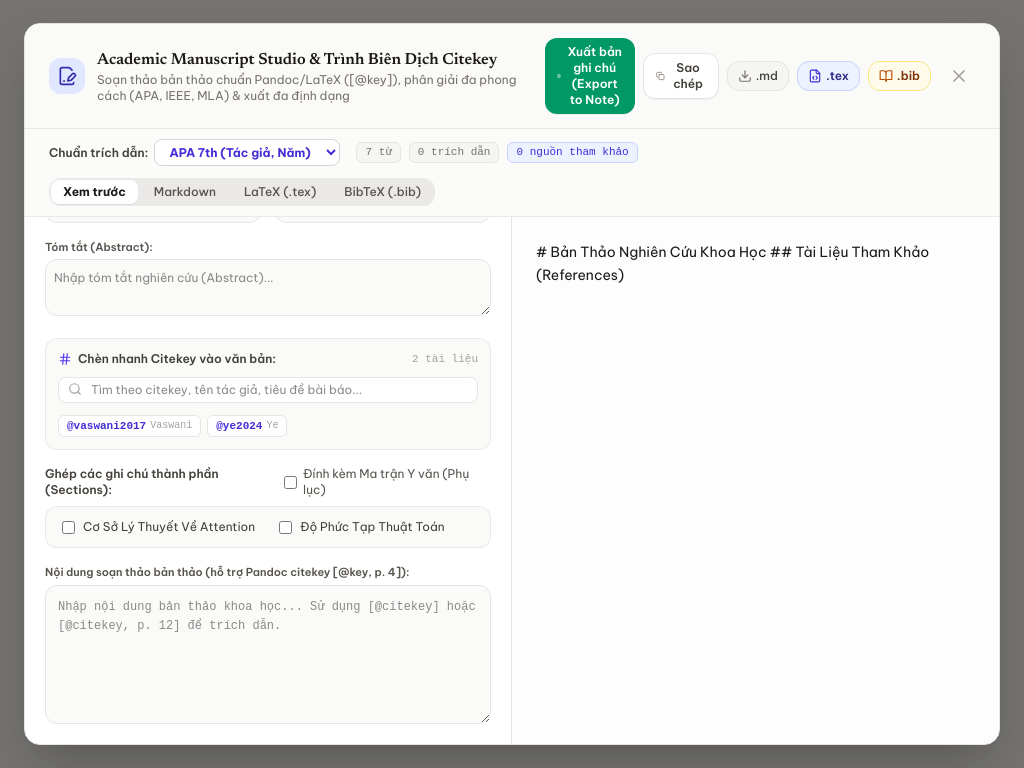
Test case: Phase 9B: Academic Manuscript Studio UI Integration › 2. Lọc danh sách citekey và chèn nhanh [@key] vào vị trí soạn thảo
(page scrolled)
Replace the text in the text box with test id "manuscript-body-textarea" with "Nghiên cứu của ": (268, 654) [45,584,491,724]
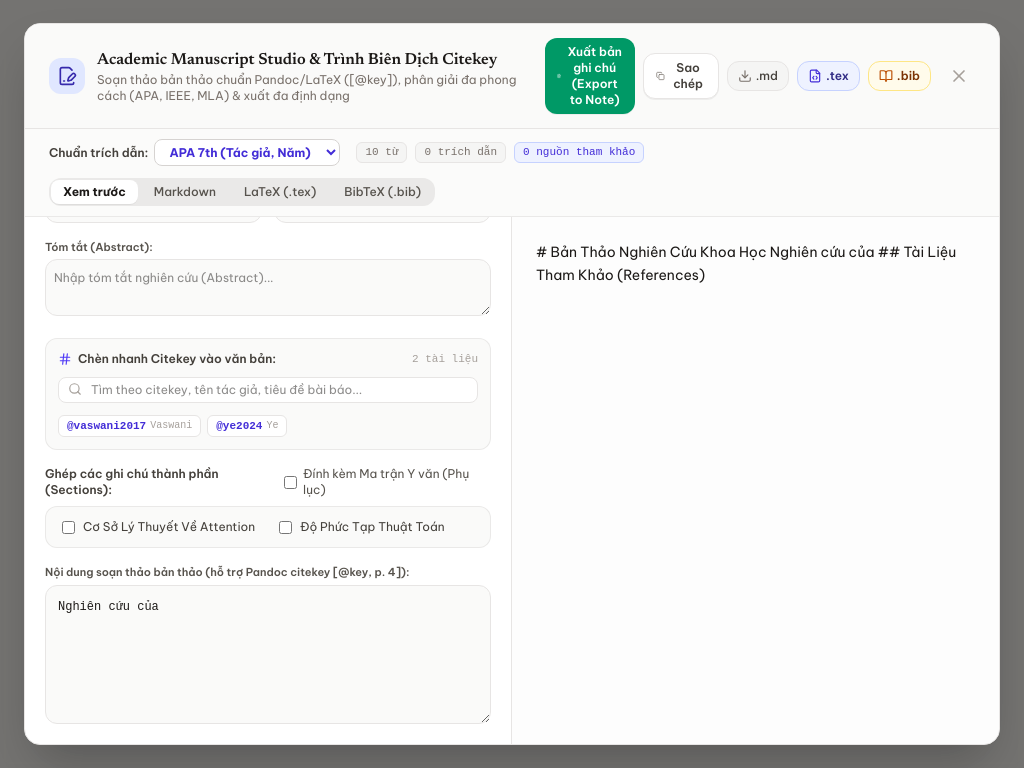
Filter citekeys
In the field with test id "citekey-search-input": (268, 390) [58,376,478,402], type "ye"
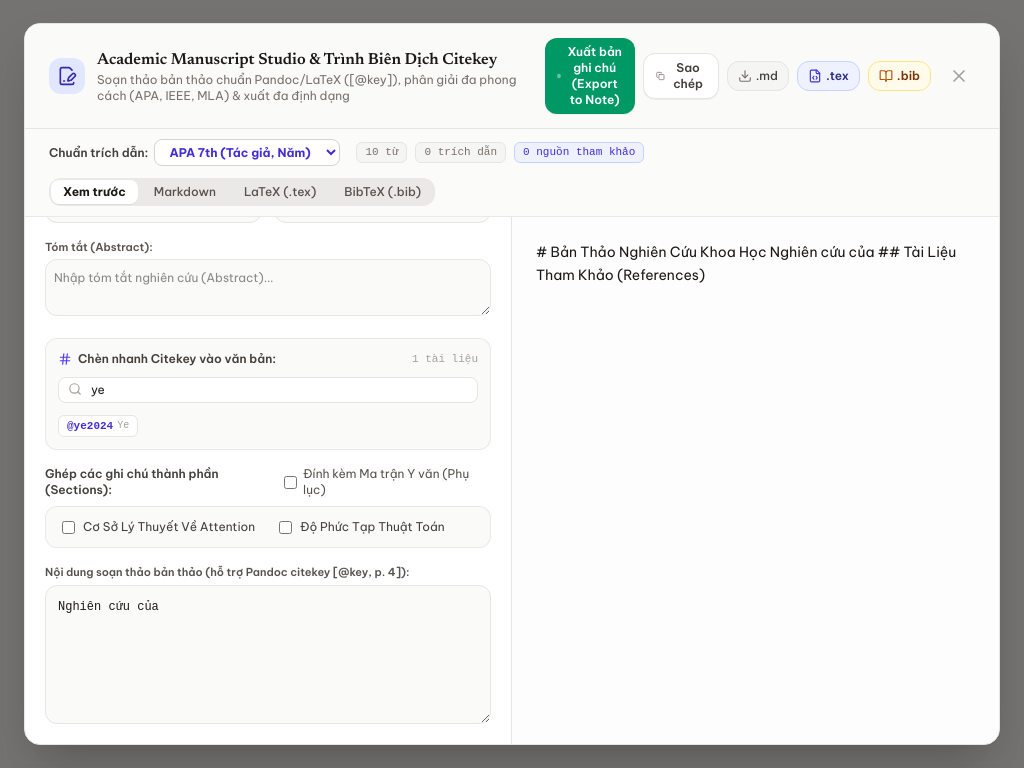
Click to insert citekey
Click the button with test id "insert-citekey-btn-ye2024": (98, 426) [58,414,138,437]
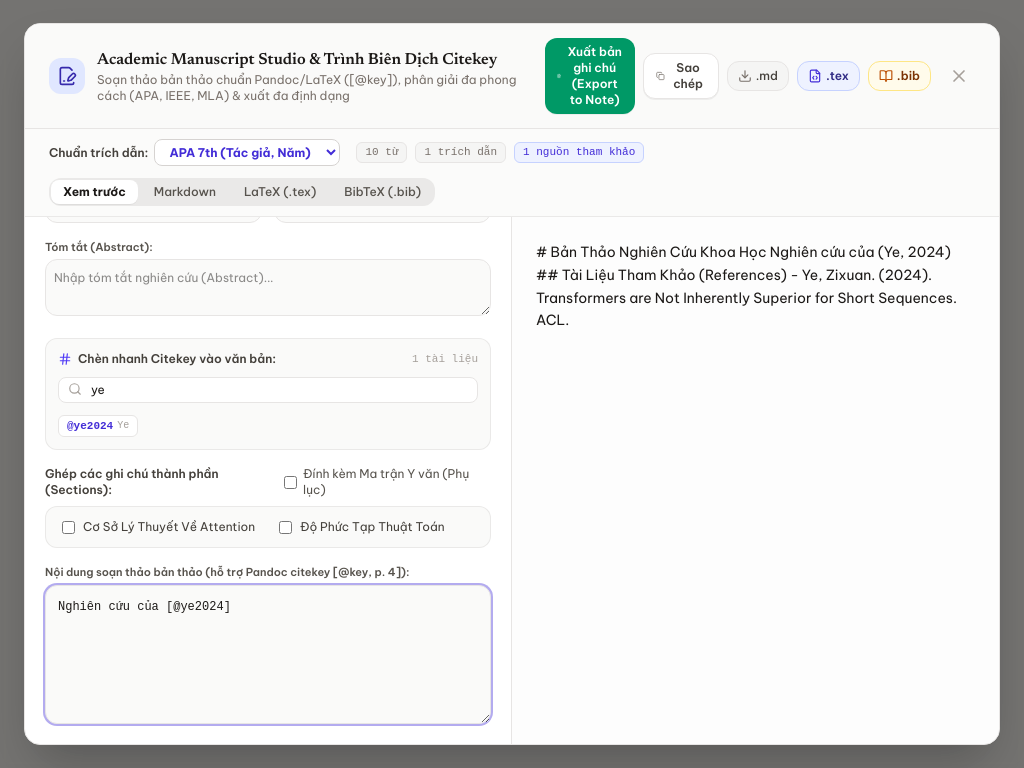
Expected: the element with test id "manuscript-compiled-preview" shows "Ye, 2024", [536,243,957,329]
